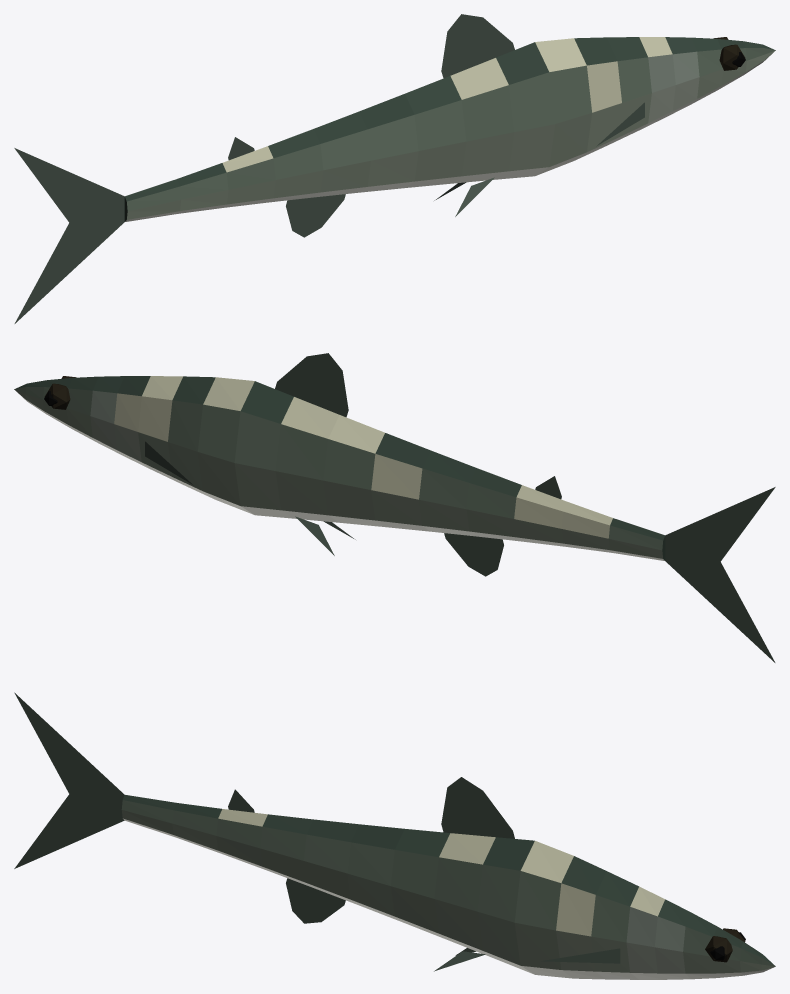
File: lake-trout.glb
3 renders of one model, top to bottom at view 1: azimuth 30°, elevation 25°; view 2: azimuth 150°, elevation 25°; view 3: azimuth 330°, elevation 25°, orthographic.
Parts seen in each view (by area): view 1: lake-trout; view 2: lake-trout; view 3: lake-trout.
Boxes of the visible parts, x1,y1,x2,y2 form: lake-trout: (14, 14, 775, 323); lake-trout: (14, 353, 775, 662); lake-trout: (14, 692, 775, 979).
Size of the model in its own units: 1.17 by 0.2958 by 0.1496.
